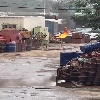fire: (56, 27, 71, 38)
